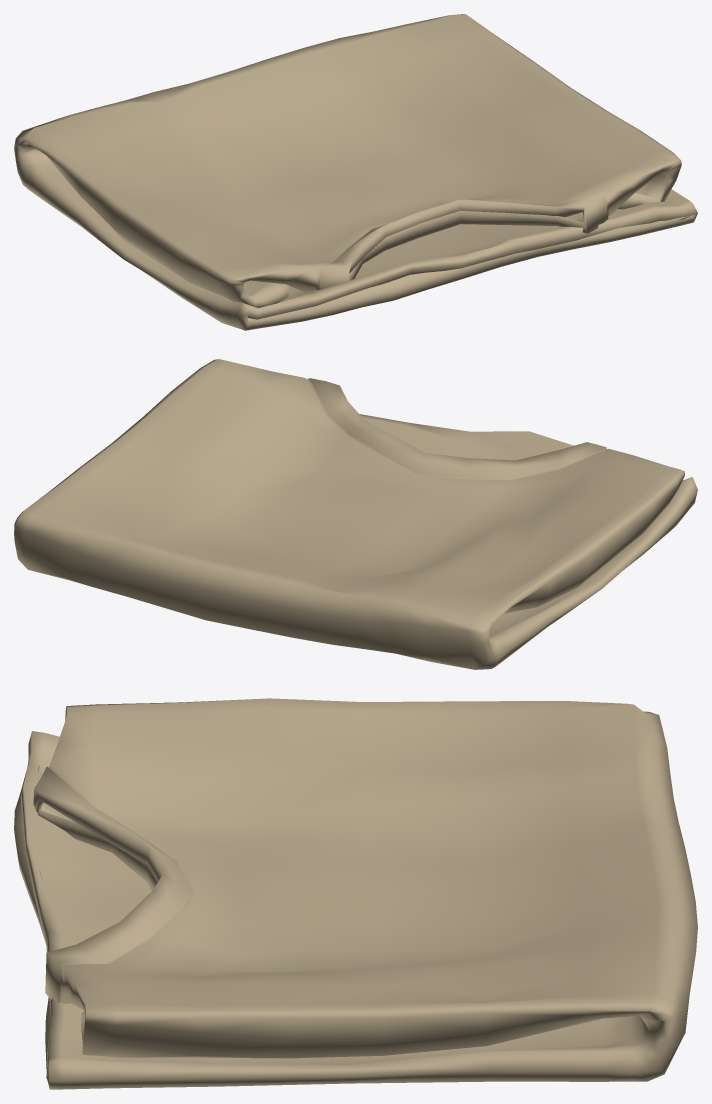
The model's file is Folded_T_Shirt34.fbx.
3 views of the same model, one above another, from view 1: azimuth 30°, elevation 25°; view 2: azimuth 150°, elevation 25°; view 3: azimuth 270°, elevation 25° (orthographic). The views are drawn at different scales.
Visible parts, largest first — view 1: Folded_T_Shirt34; view 2: Folded_T_Shirt34; view 3: Folded_T_Shirt34.
Part boxes in pixels (box(x1,y1,x2,y2)): Folded_T_Shirt34: box(14, 14, 697, 330); Folded_T_Shirt34: box(14, 359, 697, 669); Folded_T_Shirt34: box(14, 698, 697, 1089).
Size of the model in its own units: 36.95 by 4.2 by 32.8.
Materials: 1 (1 with a texture image).
